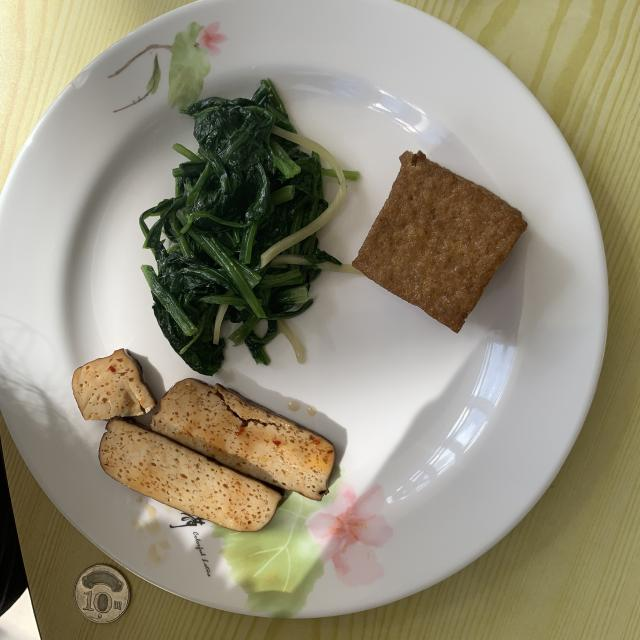coin: (74, 565, 130, 624)
egg tofu: (352, 151, 528, 332)
firm tofu: (72, 349, 335, 531)
mustard greens: (140, 79, 359, 375)
